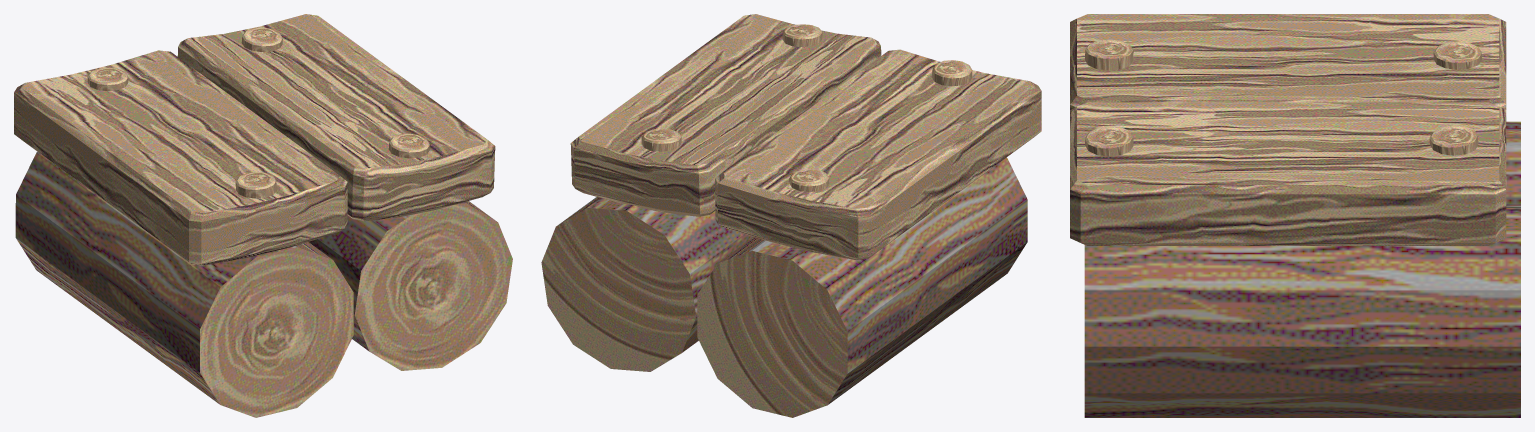
The model's file is SlapBros_Beach_Plateform_2.fbx.
The picture shows the model from 3 angles, left to right: view 1: azimuth 30°, elevation 25°; view 2: azimuth 150°, elevation 25°; view 3: azimuth 270°, elevation 25°; orthographic projection. The views are drawn at different scales.
Parts seen in each view (by area): view 1: SlapBros_Beach_Plateform_2; view 2: SlapBros_Beach_Plateform_2; view 3: SlapBros_Beach_Plateform_2.
Part boxes in pixels (x1,y1,x2,y2): SlapBros_Beach_Plateform_2: [14, 14, 512, 417]; SlapBros_Beach_Plateform_2: [541, 14, 1041, 417]; SlapBros_Beach_Plateform_2: [1070, 14, 1520, 417].
Size of the model in its own units: 4.09 by 2.76 by 4.14.
